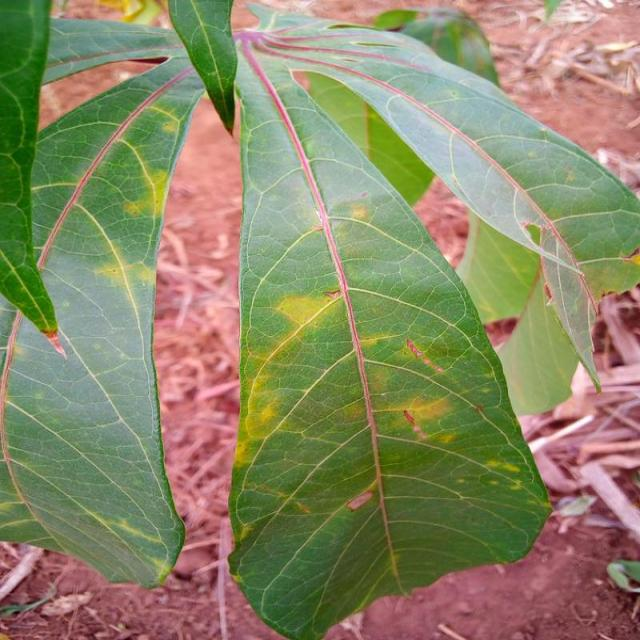cassava leaf: (0, 1, 638, 636), (226, 31, 554, 637), (0, 41, 206, 588)
